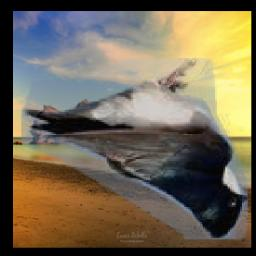Swallow: (22, 58, 249, 239)
